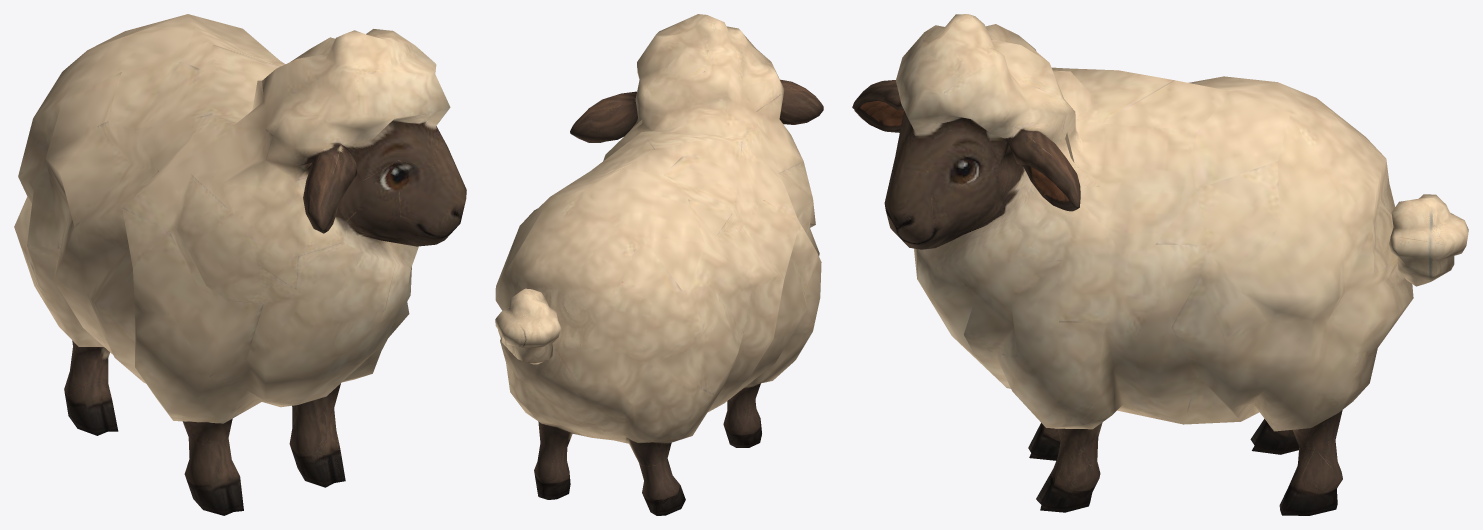
Rendered from sheep_meshy_sized.glb.
3 views of the same model, side by side, from view 1: azimuth 30°, elevation 25°; view 2: azimuth 150°, elevation 25°; view 3: azimuth 270°, elevation 25° (orthographic). The views are drawn at different scales.
Visible parts, largest first — view 1: sheep, Head; view 2: sheep, Head; view 3: sheep, Head.
Boxes of the visible parts, bbox=[...] form: sheep: bbox=[14, 14, 411, 515]; Head: bbox=[272, 29, 466, 301]; sheep: bbox=[495, 72, 821, 515]; Head: bbox=[570, 14, 823, 142]; sheep: bbox=[914, 32, 1468, 515]; Head: bbox=[852, 14, 1084, 303].
Size of the model in its own units: 0.4886 by 0.718 by 0.8377.
Materials: 1 (1 with a texture image).
